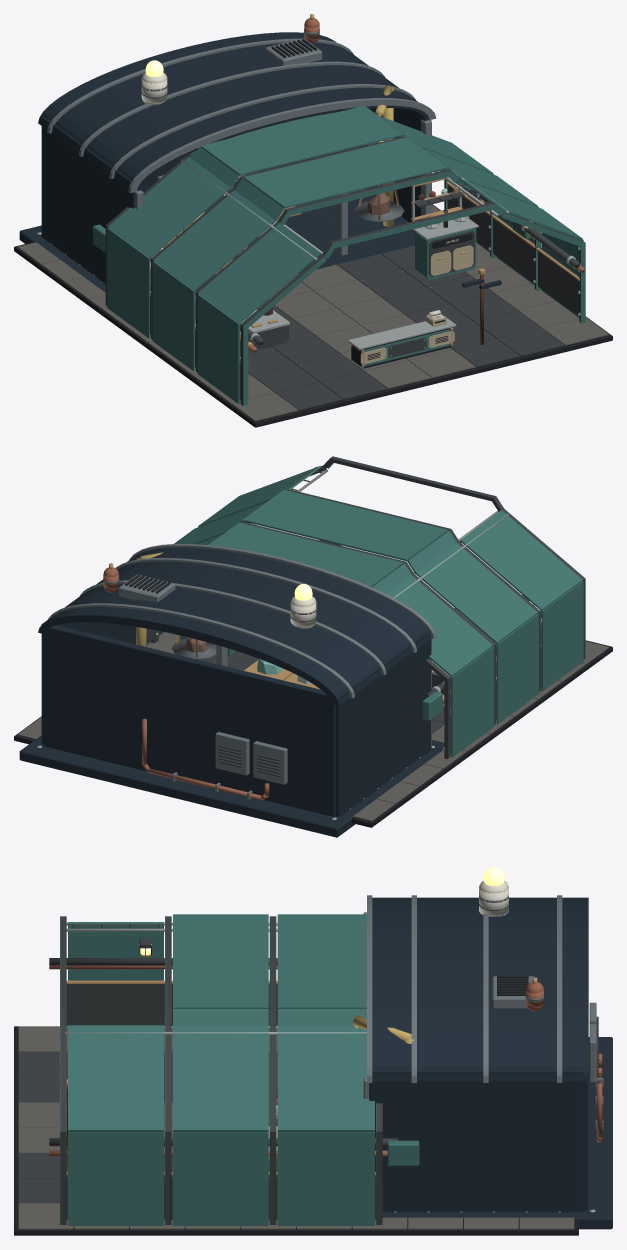
The model's file is beacon-far-wink-assay.glb.
3 views of the same model, one above another, from view 1: azimuth 30°, elevation 25°; view 2: azimuth 150°, elevation 25°; view 3: azimuth 270°, elevation 25° (orthographic). The views are drawn at different scales.
Visible parts, largest first — view 1: beacon-far-wink-assay; view 2: beacon-far-wink-assay; view 3: beacon-far-wink-assay.
Boxes of the visible parts, box(x1,y1,x2,y2) form: beacon-far-wink-assay: box(14, 14, 612, 427); beacon-far-wink-assay: box(14, 456, 612, 837); beacon-far-wink-assay: box(14, 866, 612, 1235).
Bounding box in the file's own units: 17.08 × 8.93 × 21.14.
Materials: 26 (23 with a texture image).
